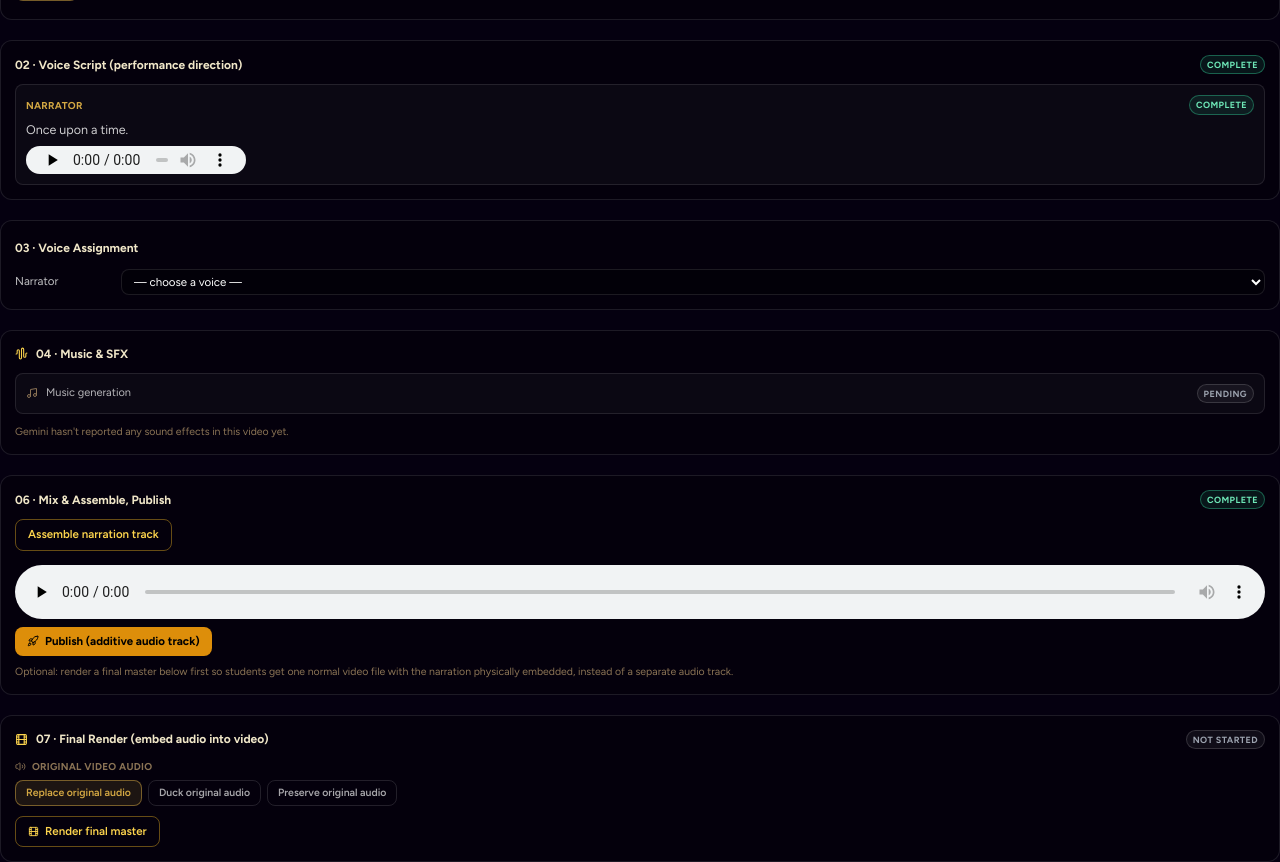
Test: a real ffmpeg-unavailable error is surfaced as an honest, non-alarming message
The width and height of the screenshot is (1280, 862).
(page scrolled)
Step 1. Click the button with test id "voice-render-button" → (87, 831), box top-left (15, 816), bottom-right (160, 847)
(page scrolled)
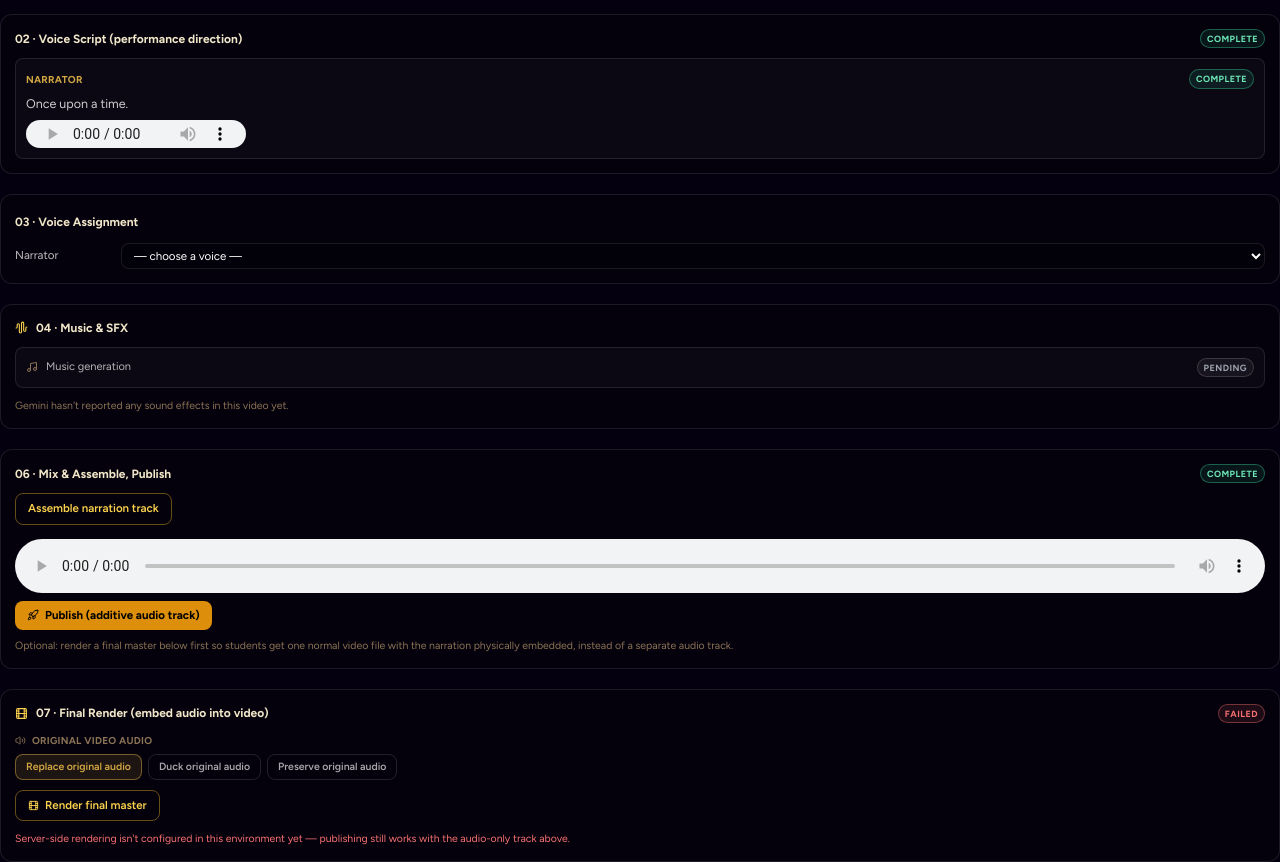
Result: the text with test id "voice-render-error" shows "publishing still works with the audio-only track" at top-left (15, 832), bottom-right (570, 845)
